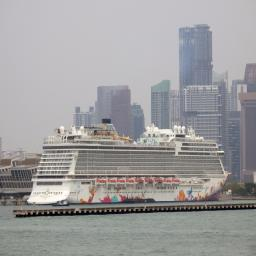cruises: (26, 117, 233, 209)
